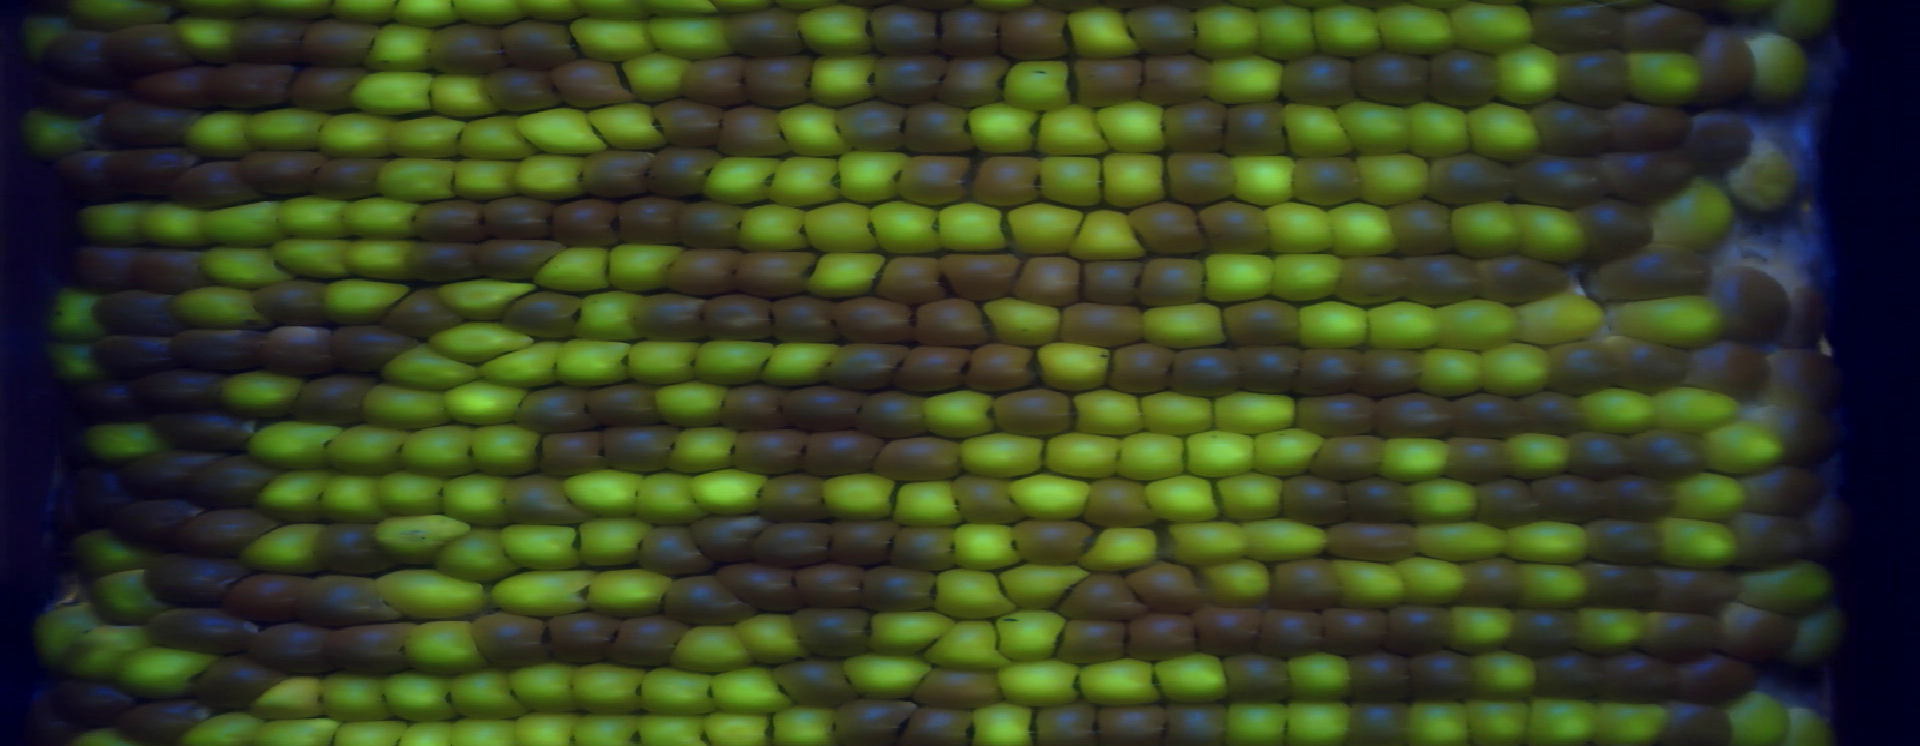fluorescent: (1608, 294, 1723, 347), (1652, 180, 1733, 247), (380, 571, 485, 621), (492, 570, 593, 619), (1730, 145, 1801, 211), (1513, 203, 1591, 263), (378, 347, 480, 392), (1704, 423, 1787, 478), (983, 296, 1065, 350), (1004, 201, 1082, 257), (431, 527, 509, 583), (429, 322, 531, 365), (937, 198, 1011, 257), (530, 244, 613, 295), (1662, 518, 1738, 575), (1741, 563, 1828, 612), (1204, 249, 1276, 307), (73, 624, 147, 681), (933, 567, 1011, 621), (402, 622, 482, 674), (122, 646, 204, 696), (958, 430, 1043, 478), (924, 620, 1010, 668), (798, 2, 874, 56), (249, 423, 332, 472), (482, 339, 560, 392), (806, 249, 887, 299), (359, 382, 448, 428), (1243, 517, 1330, 563), (324, 426, 400, 479), (1000, 59, 1073, 114), (1331, 198, 1397, 258), (1182, 429, 1259, 480), (353, 69, 433, 118), (774, 103, 847, 157), (257, 468, 324, 527), (519, 110, 606, 156), (242, 522, 317, 575), (1340, 100, 1409, 157), (1451, 201, 1521, 257), (1439, 299, 1521, 347), (443, 380, 523, 429), (589, 570, 670, 617), (1358, 153, 1428, 208), (503, 521, 578, 572), (383, 673, 454, 726), (1629, 50, 1700, 104), (1496, 47, 1560, 107), (842, 650, 924, 697), (1010, 473, 1090, 521), (1071, 208, 1140, 263), (998, 566, 1084, 610), (1518, 295, 1604, 339), (203, 246, 287, 292), (560, 472, 643, 517), (571, 661, 640, 715), (1193, 7, 1260, 62), (1656, 386, 1735, 432), (1749, 34, 1802, 103), (803, 205, 877, 255), (469, 426, 542, 477), (323, 281, 411, 322), (171, 285, 260, 327), (1076, 661, 1160, 706), (1379, 2, 1453, 51), (1038, 343, 1113, 392), (718, 668, 792, 717), (868, 202, 939, 254), (1140, 477, 1218, 523), (1675, 473, 1747, 523), (1331, 560, 1404, 609), (1284, 100, 1347, 158), (347, 192, 416, 244), (736, 201, 806, 252), (441, 473, 506, 528), (553, 339, 628, 387), (921, 391, 996, 439), (1038, 107, 1109, 157), (609, 241, 680, 292), (1453, 2, 1524, 53), (809, 58, 877, 110), (628, 339, 700, 388), (696, 341, 771, 387), (1266, 202, 1335, 254), (321, 674, 389, 725), (571, 17, 650, 61), (1064, 9, 1138, 56), (673, 627, 753, 671), (773, 157, 842, 207), (653, 379, 722, 429), (838, 149, 902, 203), (1487, 343, 1551, 397), (1229, 156, 1296, 208), (969, 104, 1040, 153), (320, 113, 394, 159), (1046, 432, 1120, 479), (203, 201, 282, 245), (1408, 104, 1468, 162), (400, 428, 473, 475), (1142, 392, 1216, 439), (633, 472, 698, 524), (242, 110, 327, 151), (705, 153, 771, 205), (340, 236, 418, 281), (1000, 661, 1078, 706), (429, 72, 500, 120), (591, 104, 662, 152), (820, 472, 891, 519), (1169, 519, 1244, 565), (1103, 156, 1166, 209), (216, 371, 299, 412), (380, 514, 460, 556), (1502, 526, 1586, 566), (954, 523, 1026, 570), (448, 671, 520, 718), (1524, 697, 1597, 744), (1576, 609, 1648, 655), (1213, 392, 1299, 431), (867, 611, 953, 650), (648, 18, 724, 62), (1296, 303, 1371, 347), (1318, 5, 1382, 56), (1209, 58, 1282, 103), (1191, 562, 1273, 603), (636, 673, 718, 713), (377, 159, 454, 202), (1578, 390, 1656, 432), (1272, 254, 1340, 303), (577, 518, 644, 567), (688, 469, 763, 513), (1040, 156, 1102, 208), (93, 572, 156, 625), (369, 22, 432, 73), (574, 290, 638, 342), (669, 428, 737, 475), (1368, 300, 1440, 345), (1146, 305, 1224, 347), (387, 118, 463, 160), (1155, 655, 1224, 702), (1251, 426, 1319, 474), (1380, 436, 1449, 483), (1502, 432, 1571, 479), (433, 281, 538, 311), (621, 55, 693, 99), (1216, 472, 1281, 521), (1258, 5, 1313, 62), (136, 201, 206, 246), (891, 481, 961, 527), (271, 235, 347, 277), (759, 344, 835, 386), (1413, 521, 1487, 563), (1120, 435, 1188, 481), (996, 612, 1063, 659), (1101, 102, 1164, 151), (518, 156, 582, 205), (509, 661, 573, 710), (1080, 528, 1155, 570), (1401, 559, 1466, 606), (1420, 345, 1480, 397), (1289, 652, 1349, 703), (1073, 392, 1146, 434), (1593, 702, 1665, 744), (184, 111, 245, 160), (1473, 648, 1536, 696), (460, 118, 528, 162), (454, 157, 523, 200), (78, 530, 144, 575), (1733, 692, 1787, 746), (279, 195, 347, 238), (1520, 562, 1586, 605), (81, 202, 143, 247), (741, 614, 800, 661), (1449, 608, 1512, 652), (1284, 703, 1349, 746), (253, 677, 322, 718), (1468, 696, 1523, 746), (174, 15, 231, 62), (1411, 478, 1474, 521), (380, 474, 443, 517), (973, 701, 1033, 746), (1226, 699, 1283, 746), (1406, 701, 1469, 742), (178, 710, 250, 746), (324, 475, 381, 521), (36, 605, 81, 661), (49, 288, 102, 336), (48, 334, 98, 382), (26, 111, 83, 153), (87, 423, 160, 454), (252, 717, 334, 745), (1794, 609, 1836, 664), (331, 719, 403, 746), (1776, 2, 1828, 37), (23, 15, 67, 55), (1784, 703, 1824, 746), (514, 717, 569, 746)
nonfluorescent: (1588, 247, 1714, 296), (1716, 268, 1794, 342), (179, 502, 276, 557), (143, 555, 242, 608), (1611, 334, 1692, 397), (1428, 152, 1523, 205), (664, 572, 752, 628), (1479, 255, 1572, 307), (151, 608, 255, 654), (298, 575, 396, 624), (1597, 152, 1696, 200), (189, 659, 280, 710), (1532, 100, 1613, 156), (191, 454, 276, 507), (1719, 601, 1798, 658), (869, 435, 962, 481), (1358, 51, 1431, 110), (1556, 51, 1630, 110), (1698, 28, 1753, 107), (168, 330, 264, 374), (1325, 521, 1420, 565), (1689, 341, 1763, 397), (149, 412, 253, 452), (1060, 570, 1146, 619), (831, 292, 915, 342), (1736, 510, 1809, 567), (1278, 56, 1359, 108), (257, 627, 338, 679), (778, 383, 864, 431), (1403, 252, 1478, 307), (1685, 113, 1753, 173), (773, 660, 858, 708), (388, 285, 464, 339), (312, 521, 384, 577), (108, 145, 192, 192), (1577, 202, 1656, 254), (426, 23, 501, 77), (253, 327, 336, 376), (506, 473, 582, 526), (722, 562, 798, 615), (294, 377, 373, 428), (1605, 103, 1693, 148), (1529, 9, 1622, 51), (716, 107, 789, 162), (1517, 157, 1600, 205), (1128, 202, 1205, 254), (1223, 100, 1291, 159), (113, 702, 211, 742), (860, 563, 940, 612), (98, 107, 195, 147), (1773, 401, 1833, 465), (940, 250, 1018, 300), (474, 615, 549, 666), (1058, 303, 1142, 348), (971, 153, 1042, 207), (835, 99, 906, 153), (1142, 53, 1213, 107), (1763, 347, 1834, 401), (337, 625, 419, 671), (637, 526, 713, 576), (1603, 652, 1679, 702), (546, 611, 618, 664), (758, 519, 838, 567), (553, 58, 631, 107), (793, 610, 871, 659), (1636, 610, 1719, 655), (1389, 198, 1458, 252), (993, 390, 1074, 436), (1676, 657, 1757, 703), (898, 157, 972, 207), (1226, 300, 1300, 350), (823, 342, 907, 386), (831, 699, 913, 745), (704, 294, 776, 345), (1130, 563, 1202, 615), (1509, 601, 1576, 657), (1659, 570, 1739, 616), (692, 512, 765, 562), (1266, 557, 1340, 608), (1586, 519, 1663, 567), (513, 387, 594, 432), (731, 428, 806, 477), (501, 18, 572, 70), (107, 22, 185, 69), (1011, 521, 1090, 567), (1000, 7, 1067, 62), (503, 292, 579, 339), (598, 426, 673, 474), (869, 7, 943, 56), (122, 454, 208, 496), (1292, 157, 1363, 207), (93, 292, 174, 336), (1619, 9, 1707, 49), (1741, 468, 1820, 513), (737, 250, 813, 296), (576, 149, 649, 197), (669, 247, 742, 295), (647, 147, 711, 201), (1408, 652, 1473, 706), (473, 240, 564, 278), (1281, 477, 1347, 529), (915, 300, 989, 347), (964, 343, 1038, 390), (253, 277, 328, 323), (1449, 392, 1523, 439), (242, 153, 323, 196), (742, 55, 809, 107), (906, 104, 973, 156), (1171, 345, 1238, 397), (1297, 347, 1364, 398), (91, 334, 176, 375), (333, 323, 411, 367), (230, 576, 302, 624), (1202, 202, 1271, 252), (1603, 472, 1671, 522), (1583, 562, 1659, 608), (800, 563, 869, 612), (1057, 615, 1127, 664), (729, 10, 803, 55), (549, 198, 616, 249), (1086, 479, 1153, 529), (1636, 428, 1703, 478), (211, 64, 291, 105), (618, 194, 681, 247), (1109, 344, 1172, 398), (615, 617, 687, 664), (1125, 616, 1198, 663), (1198, 604, 1261, 657), (1068, 59, 1144, 103), (1307, 435, 1382, 479), (771, 292, 836, 343), (1476, 478, 1540, 529), (873, 55, 947, 100), (1167, 151, 1233, 201), (1338, 257, 1404, 307), (1297, 394, 1376, 436), (1431, 47, 1487, 107), (1376, 394, 1453, 437), (898, 347, 969, 393), (1222, 657, 1293, 703), (684, 58, 746, 111), (180, 162, 255, 206), (913, 670, 1003, 707), (637, 293, 705, 341), (1547, 342, 1615, 390), (60, 676, 132, 722), (124, 247, 202, 289), (1261, 608, 1326, 658), (304, 20, 370, 69), (951, 477, 1018, 526), (486, 69, 553, 116), (1534, 653, 1603, 699), (1538, 477, 1603, 526), (124, 71, 213, 107), (119, 502, 189, 548), (137, 374, 220, 412), (1387, 608, 1455, 654), (482, 194, 553, 238), (943, 58, 1007, 107), (1455, 560, 1520, 608), (43, 29, 104, 80), (1349, 652, 1411, 702), (760, 472, 823, 521), (877, 254, 944, 299), (1445, 440, 1509, 488), (1319, 612, 1387, 657), (69, 472, 129, 522), (1095, 703, 1167, 745), (405, 243, 475, 285), (313, 154, 381, 198), (852, 393, 923, 435), (291, 70, 356, 115), (653, 99, 718, 145), (833, 521, 898, 566), (1347, 477, 1412, 522), (231, 20, 300, 62), (414, 198, 482, 241), (1140, 257, 1202, 304), (1239, 347, 1297, 397), (1128, 7, 1191, 53), (804, 432, 878, 472), (1163, 103, 1223, 151), (893, 527, 954, 573), (585, 386, 662, 423), (942, 7, 998, 58), (678, 202, 742, 246), (1018, 258, 1081, 303), (1664, 704, 1731, 746), (1569, 432, 1636, 474), (542, 431, 604, 477), (1362, 350, 1423, 394), (1347, 702, 1413, 742), (1163, 702, 1223, 746), (36, 77, 111, 111), (1082, 257, 1139, 303), (1523, 391, 1580, 436), (722, 383, 779, 428), (909, 708, 973, 746), (1033, 706, 1096, 744), (81, 379, 137, 420), (60, 153, 113, 197), (76, 249, 124, 292), (1790, 299, 1823, 341)
